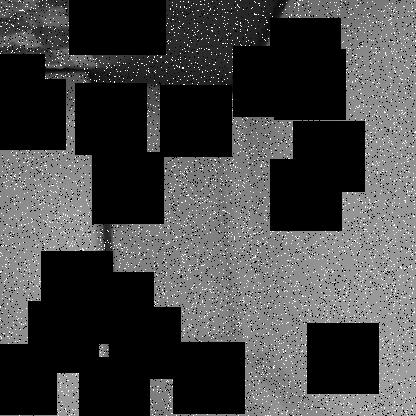Porte: (89, 78, 245, 362)
